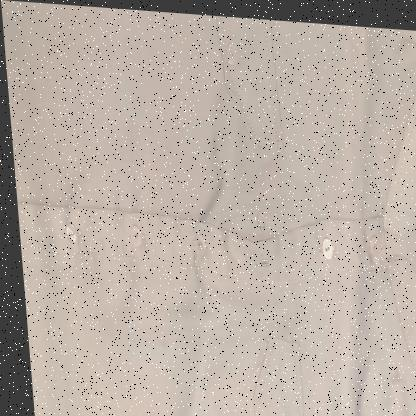spot: (379, 350, 397, 386)
